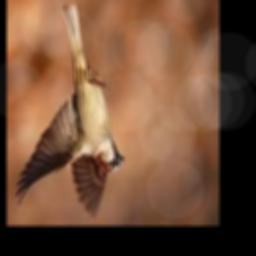Sparrow: (16, 3, 125, 218)
